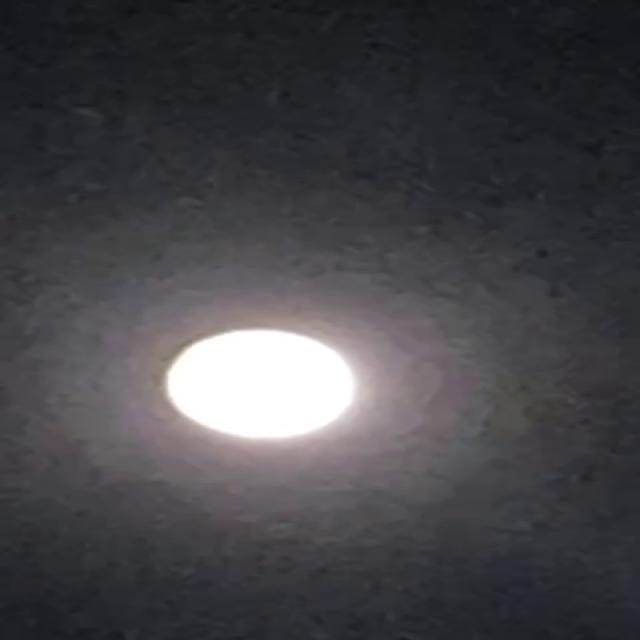moon: (127, 315, 365, 459)
